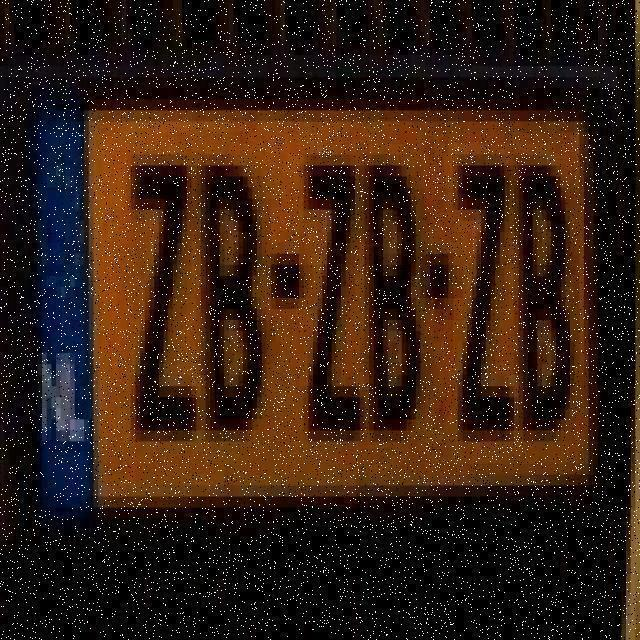license-plate: (99, 123, 594, 479)
